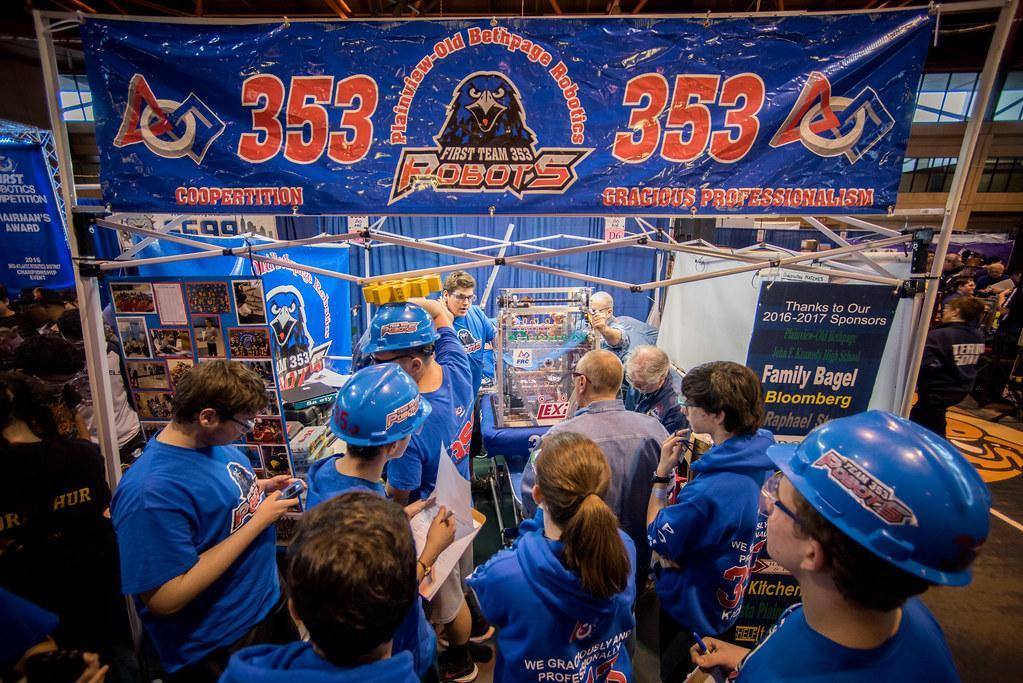robot: (483, 285, 608, 436)
